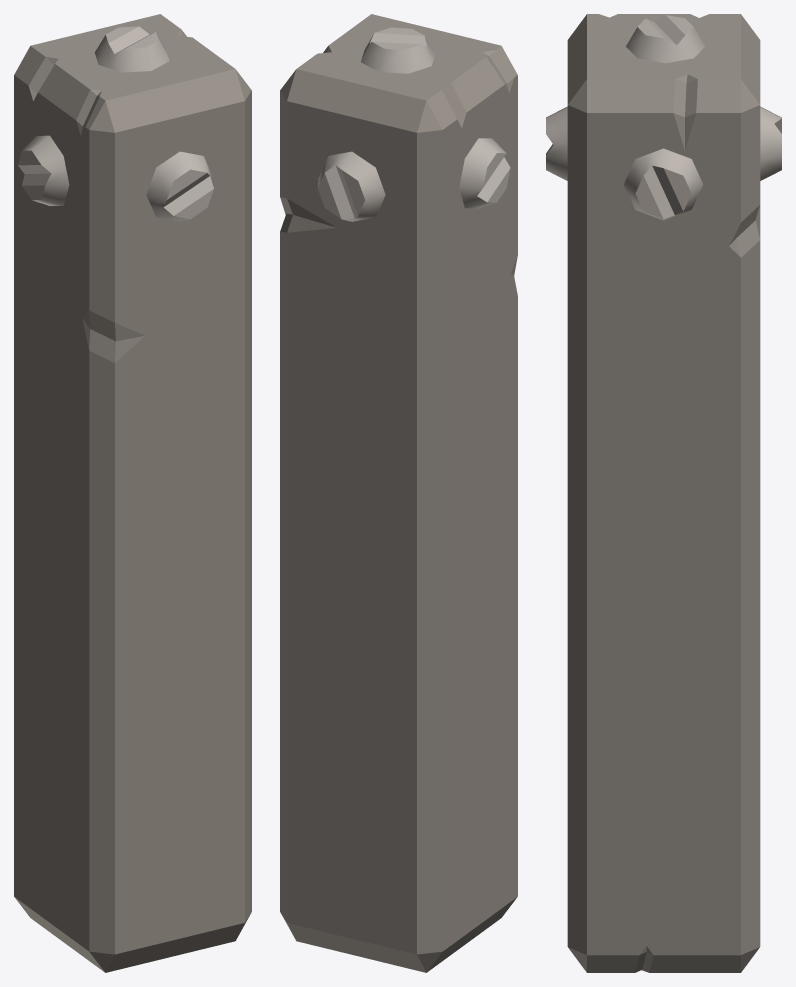
The model's file is m_dec_dung_poleMetalBig.fbx.
The picture shows the model from 3 angles, left to right: view 1: azimuth 30°, elevation 25°; view 2: azimuth 150°, elevation 25°; view 3: azimuth 270°, elevation 25°; orthographic projection. The views are drawn at different scales.
Parts seen in each view (by area): view 1: m_dec_dung_poleMetalBig; view 2: m_dec_dung_poleMetalBig; view 3: m_dec_dung_poleMetalBig.
Boxes of the visible parts, x1=… form: m_dec_dung_poleMetalBig: x1=14, y1=14, x2=251, y2=972; m_dec_dung_poleMetalBig: x1=280, y1=14, x2=517, y2=972; m_dec_dung_poleMetalBig: x1=546, y1=14, x2=781, y2=972.
Bounding box in the file's own units: 0.8243 × 3.52 × 0.8243.
